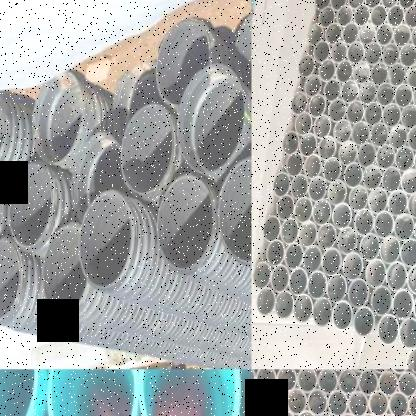pipe: (177, 64, 244, 174), (156, 175, 214, 270), (78, 190, 132, 289), (32, 71, 84, 164), (139, 369, 241, 416), (156, 18, 209, 106), (121, 106, 173, 194), (72, 132, 122, 220), (48, 369, 137, 416), (42, 226, 87, 314), (8, 163, 54, 248), (218, 158, 252, 262), (0, 369, 38, 416), (233, 8, 252, 93), (0, 240, 20, 320), (392, 289, 415, 321), (377, 315, 400, 346), (332, 301, 355, 332), (371, 286, 393, 318), (347, 279, 370, 309), (365, 258, 387, 289), (380, 234, 401, 266), (312, 297, 333, 329), (353, 308, 376, 337), (326, 274, 349, 303), (393, 213, 416, 241), (387, 262, 408, 292), (294, 294, 314, 325), (274, 290, 294, 321), (256, 287, 276, 318), (342, 253, 364, 281), (302, 245, 323, 274), (337, 227, 358, 256), (374, 211, 395, 240), (308, 271, 328, 301), (360, 234, 381, 262), (317, 223, 338, 251), (354, 209, 375, 237), (307, 388, 328, 416), (322, 248, 342, 277), (288, 268, 308, 297), (368, 188, 390, 214), (271, 264, 290, 294), (349, 185, 370, 212), (327, 180, 348, 207), (327, 389, 348, 416), (286, 388, 307, 415), (280, 218, 300, 246), (388, 189, 408, 217), (266, 387, 286, 415), (378, 369, 398, 397), (332, 204, 353, 230), (368, 390, 389, 416), (347, 390, 368, 416), (399, 318, 416, 350), (266, 240, 286, 267), (298, 221, 318, 248), (294, 197, 314, 224), (276, 195, 296, 222), (344, 162, 364, 189), (322, 157, 342, 184), (395, 146, 415, 173), (376, 144, 396, 171), (357, 142, 377, 169), (338, 140, 358, 167), (358, 369, 378, 396), (285, 243, 304, 271), (262, 215, 281, 243), (313, 199, 332, 227), (363, 164, 382, 192), (252, 262, 271, 290), (382, 167, 402, 193), (294, 111, 314, 137), (382, 103, 402, 129), (376, 82, 396, 108), (338, 369, 358, 395), (308, 176, 327, 203), (290, 174, 309, 201), (398, 370, 416, 398), (276, 369, 297, 393), (370, 123, 390, 148), (394, 84, 414, 109), (392, 23, 412, 48), (388, 391, 408, 416), (318, 369, 338, 394), (297, 369, 317, 394), (400, 237, 416, 268), (318, 135, 337, 161), (334, 119, 353, 145), (364, 101, 383, 127), (328, 98, 347, 124), (358, 80, 377, 106), (389, 125, 408, 150), (352, 121, 371, 146), (346, 100, 365, 125), (308, 94, 327, 119), (388, 63, 407, 88), (370, 62, 389, 87), (381, 42, 400, 67), (273, 172, 291, 198), (304, 154, 322, 180), (286, 152, 304, 178), (341, 79, 359, 105), (256, 369, 276, 392), (313, 115, 332, 139), (290, 92, 309, 116), (300, 133, 318, 158), (282, 131, 300, 156), (323, 78, 341, 103), (336, 59, 354, 84), (387, 4, 405, 29), (399, 43, 416, 69), (353, 61, 371, 85), (298, 55, 316, 79), (364, 42, 382, 66), (376, 23, 393, 48), (251, 386, 266, 414), (341, 23, 360, 45), (304, 75, 322, 98), (318, 59, 336, 82), (330, 41, 348, 64), (318, 6, 336, 29), (370, 5, 388, 28), (307, 23, 324, 47), (401, 168, 416, 195), (400, 104, 416, 129), (312, 41, 330, 63), (0, 94, 5, 173), (359, 23, 376, 46), (348, 41, 364, 65), (324, 24, 342, 45), (336, 6, 354, 27), (354, 5, 370, 27), (404, 5, 416, 29), (407, 264, 416, 295), (406, 125, 416, 152), (405, 65, 416, 89), (405, 348, 416, 369), (408, 191, 416, 218), (314, 0, 330, 12), (408, 392, 416, 416), (330, 0, 347, 11), (347, 0, 364, 10), (398, 0, 415, 10), (381, 0, 398, 10), (365, 0, 382, 10), (274, 409, 297, 416), (253, 409, 276, 416), (410, 24, 416, 48), (413, 85, 416, 110), (414, 292, 416, 324), (414, 148, 416, 174)
